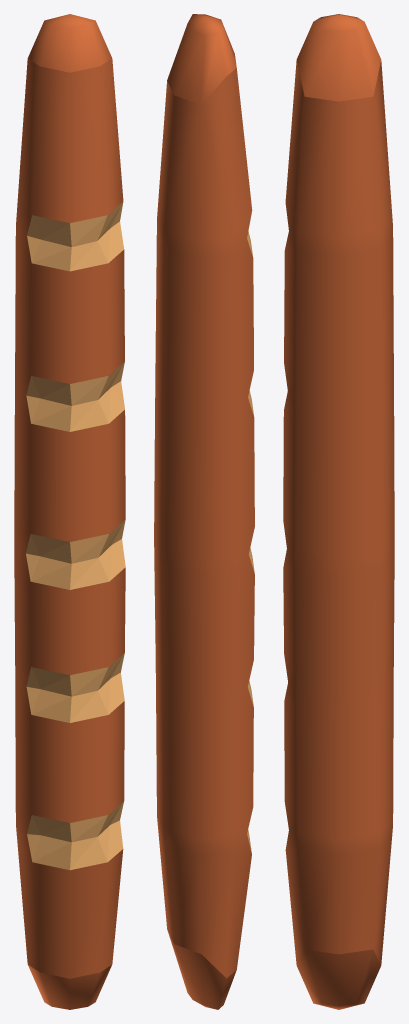
The model's file is Produce_Baguette.glb.
3 views of the same model, side by side, from view 1: azimuth 90°, elevation 25°; view 2: azimuth 210°, elevation 25°; view 3: azimuth 270°, elevation 25° (orthographic).
Visible parts, largest first — view 1: Cylinder005; view 2: Cylinder005; view 3: Cylinder005.
Boxes of the visible parts, x1,y1,x2,y2 form: Cylinder005: [14, 14, 125, 1009]; Cylinder005: [154, 14, 254, 1009]; Cylinder005: [283, 14, 394, 1009].
Bounding box in the file's own units: 0.0823 × 0.853 × 0.0866.
